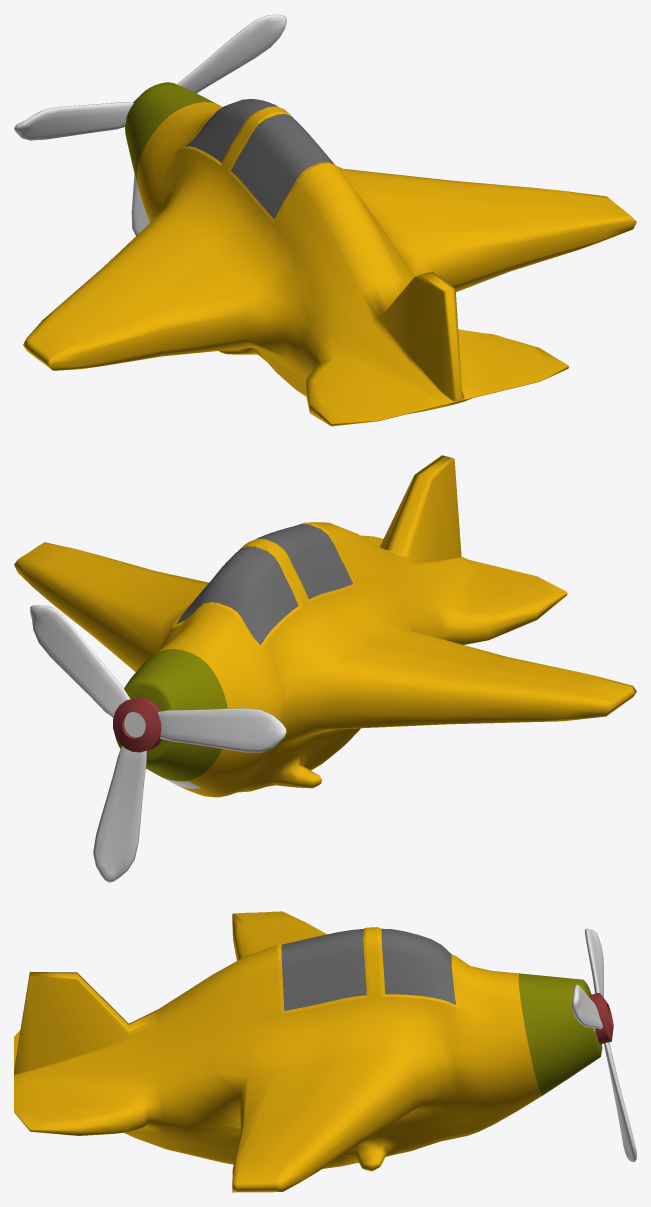
File: airplanefinal.fbx
3 views of the same model, one above another, from view 1: azimuth 30°, elevation 25°; view 2: azimuth 150°, elevation 25°; view 3: azimuth 270°, elevation 25° (orthographic). The views are drawn at different scales.
Visible parts, largest first — view 1: pCylinder1, pCube4; view 2: pCylinder1, pCube4; view 3: pCylinder1, pCube4.
Part boxes in pixels (left/top/right/bottom): pCylinder1: left=23, top=82, right=636, bottom=426; pCube4: left=14, top=14, right=286, bottom=235; pCylinder1: left=14, top=455, right=636, bottom=797; pCube4: left=30, top=605, right=286, bottom=882; pCylinder1: left=14, top=911, right=602, bottom=1192; pCube4: left=571, top=928, right=636, bottom=1162.
Size of the model in its own units: 4.72 by 1.93 by 4.57.
